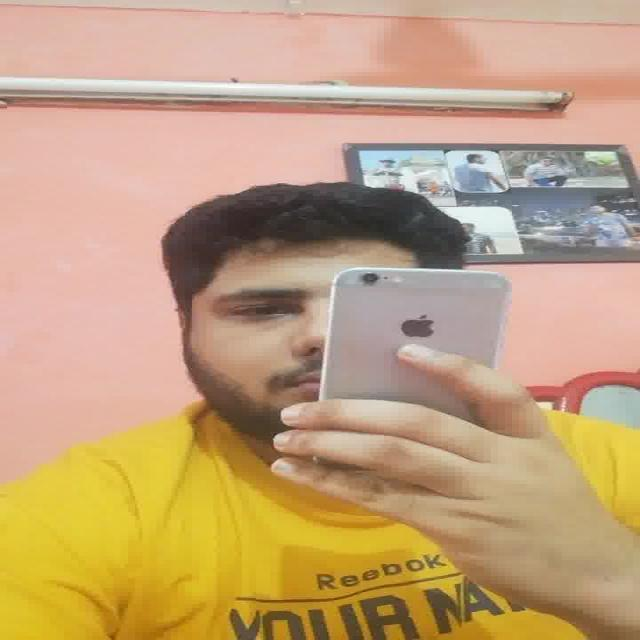Phone: (318, 266, 515, 404)
